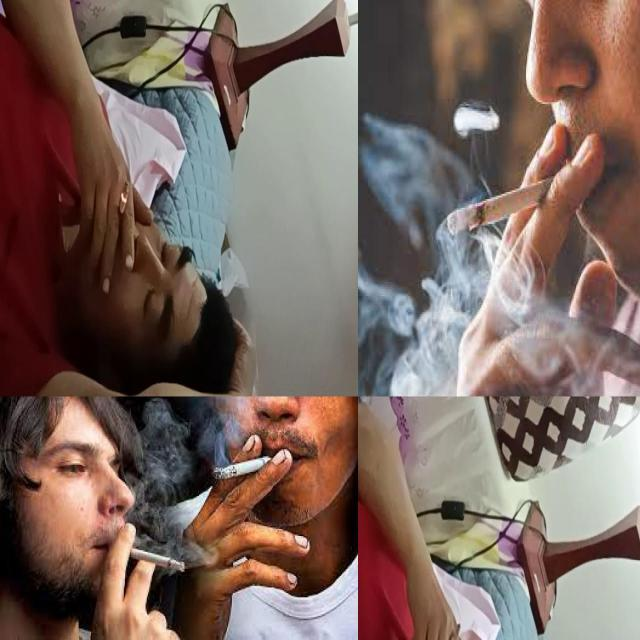cigarette: (448, 167, 584, 236), (118, 544, 186, 572), (213, 456, 272, 480), (118, 182, 130, 227), (445, 622, 461, 639)
